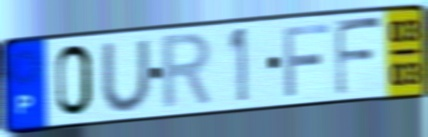0: (53, 42, 95, 120)
1: (226, 24, 251, 106)
F: (332, 15, 386, 98), (281, 21, 333, 99)
R: (160, 29, 216, 114)
U: (98, 36, 154, 115)
